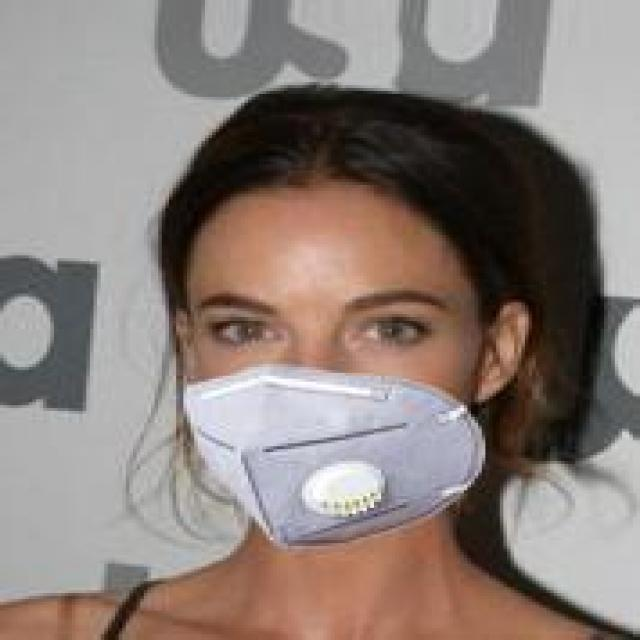mask: (148, 120, 582, 549)
